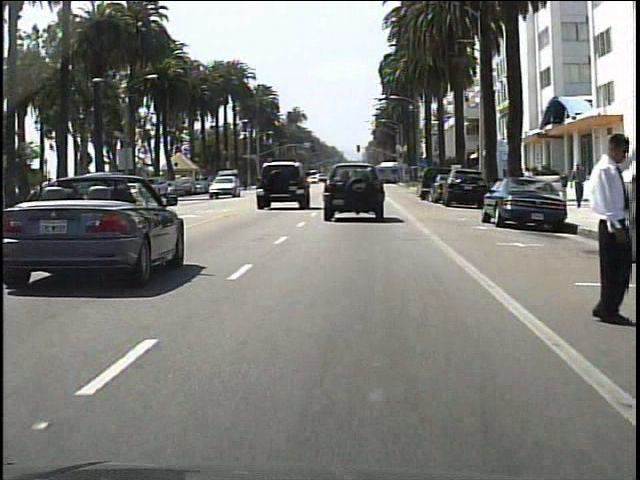person: (571, 122, 628, 325)
